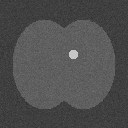nodule: (67, 45, 79, 60)
